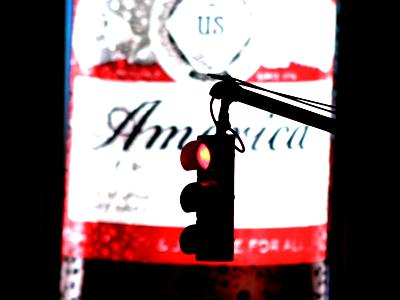International Road Signal Light: (176, 133, 233, 264)
